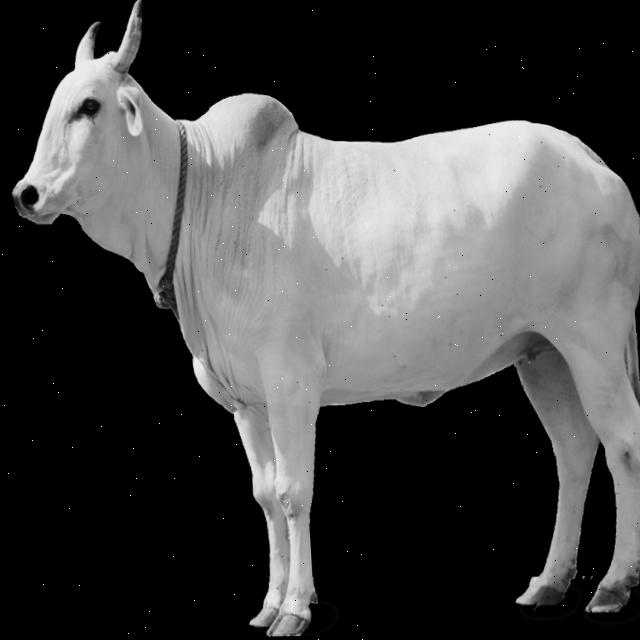Cow: (2, 0, 640, 638)
